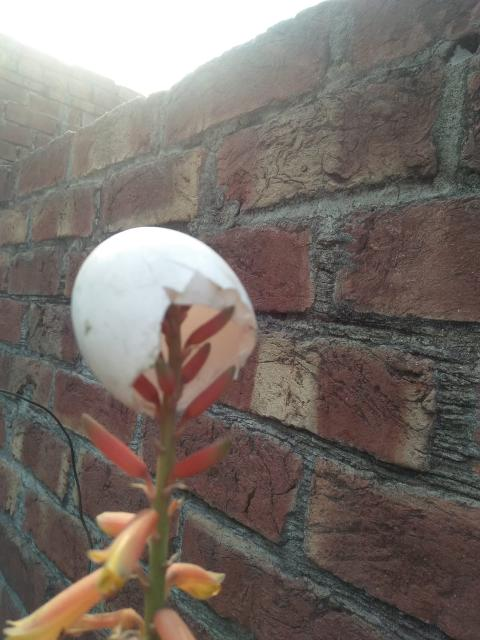Roto: (72, 224, 260, 415)
